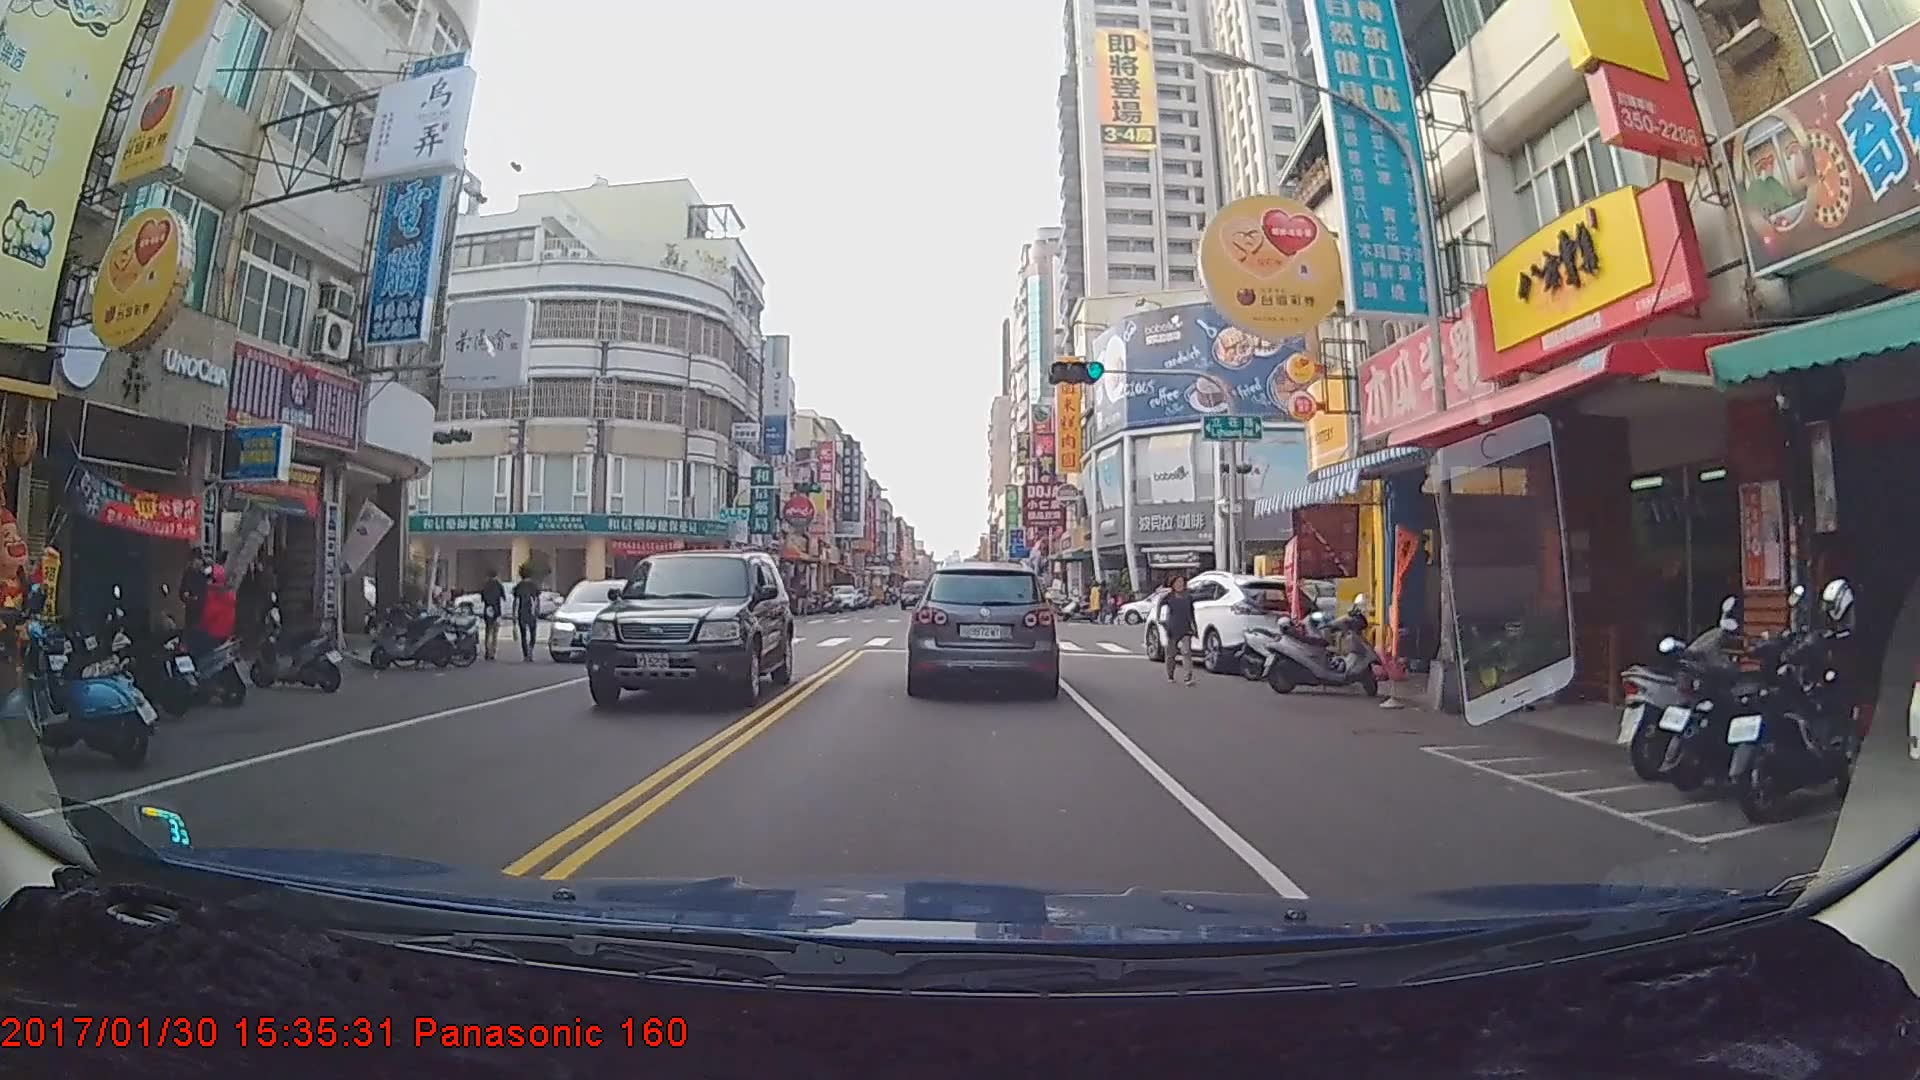pedestrian: (172, 543, 224, 676), (1160, 574, 1199, 683), (507, 564, 546, 658), (482, 570, 507, 666)
rider: (142, 561, 250, 709)
vehicle: (587, 548, 795, 708), (906, 562, 1057, 695), (1142, 571, 1330, 670), (548, 576, 664, 663), (1115, 585, 1224, 625), (826, 581, 859, 610), (898, 576, 928, 607)
